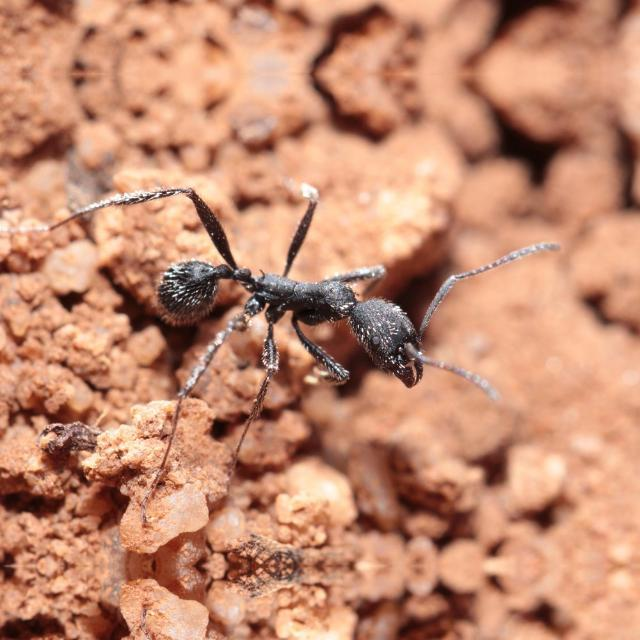Apheanogaster: (118, 201, 480, 405)
